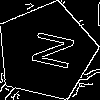N: (21, 26, 75, 72)
